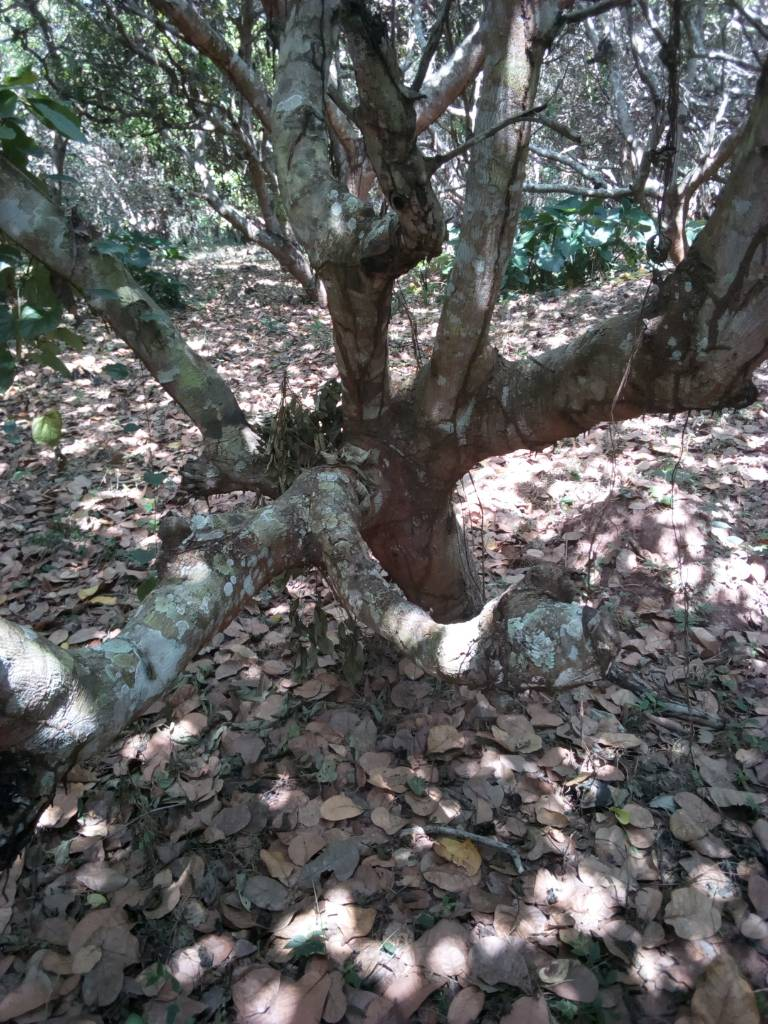Termites: (333, 291, 468, 574)
